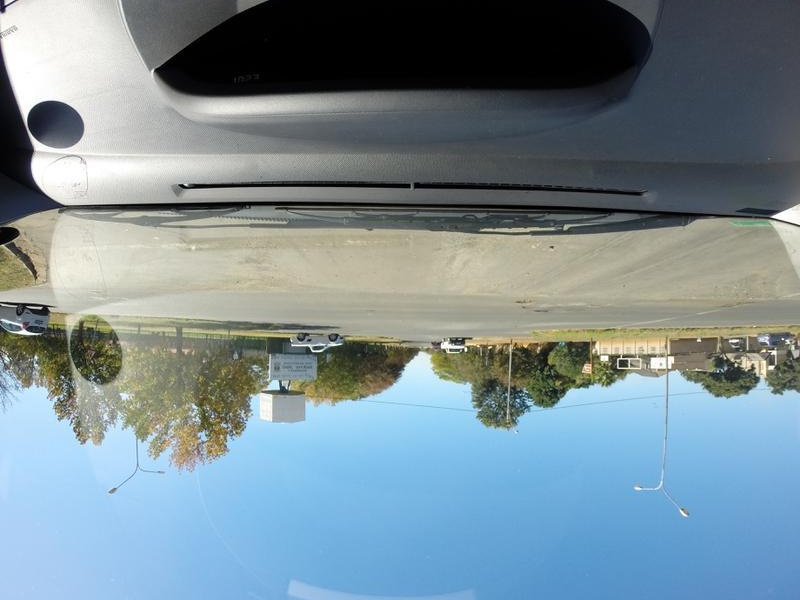pothole: (508, 296, 537, 310), (534, 298, 551, 320)
